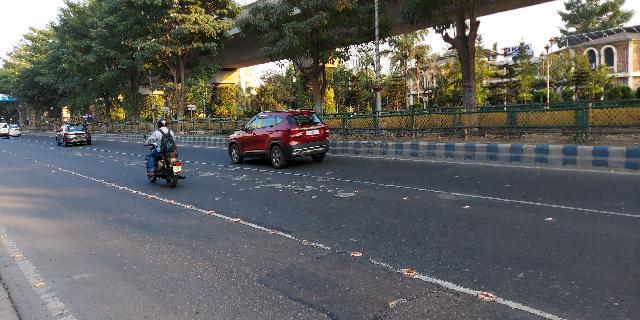Car: (229, 107, 334, 168), (48, 121, 95, 151)
Motorbike: (137, 118, 187, 188)
